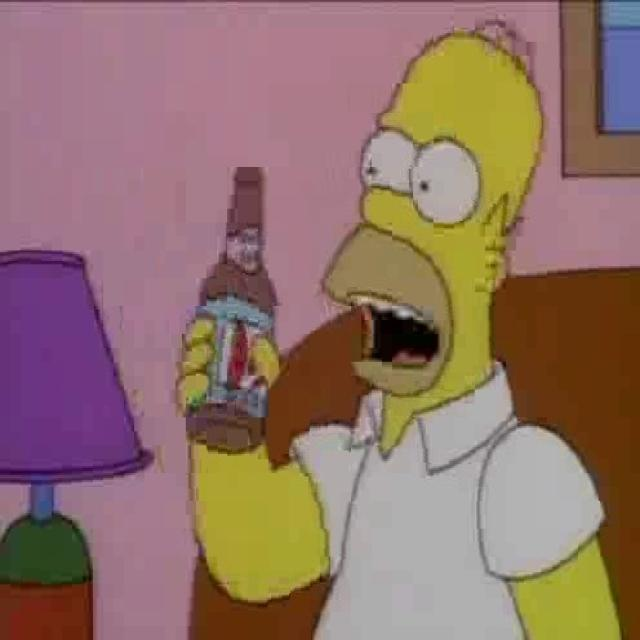Homer Simpson: (318, 13, 549, 418)
